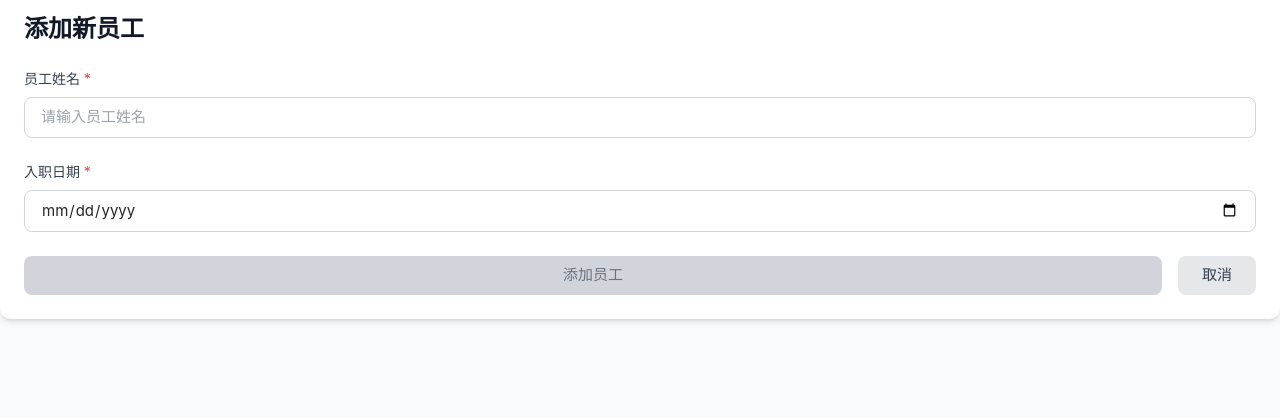
Test case: EmployeeForm.vue › 表单验证失败 › storage.save 失败时应该显示错误
The image size is (1280, 418).
Type "张三" into the field with id "name" at (640, 117), box x1=24 y1=97 x2=1256 y2=138
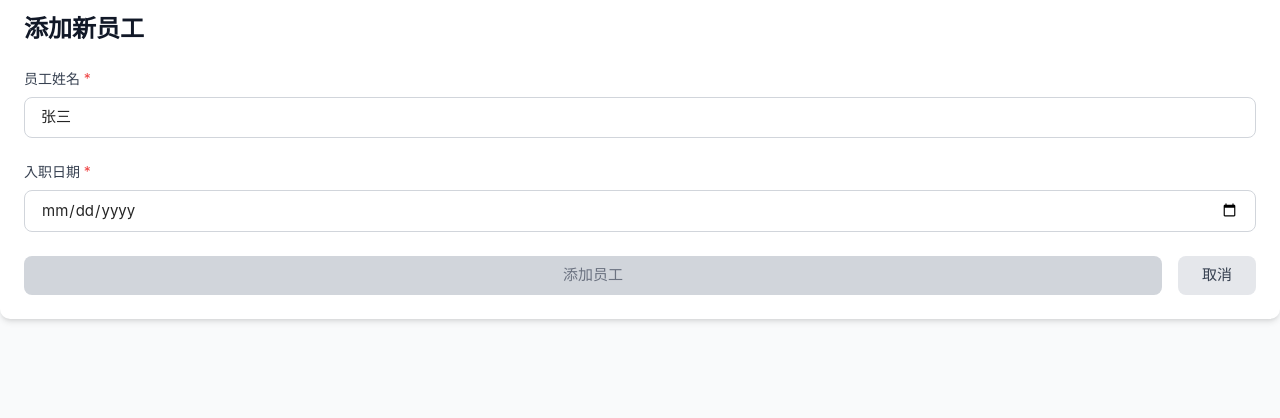
Type "2023-05-15" into the date field with id "hireDate" at (640, 211), box x1=24 y1=190 x2=1256 y2=232
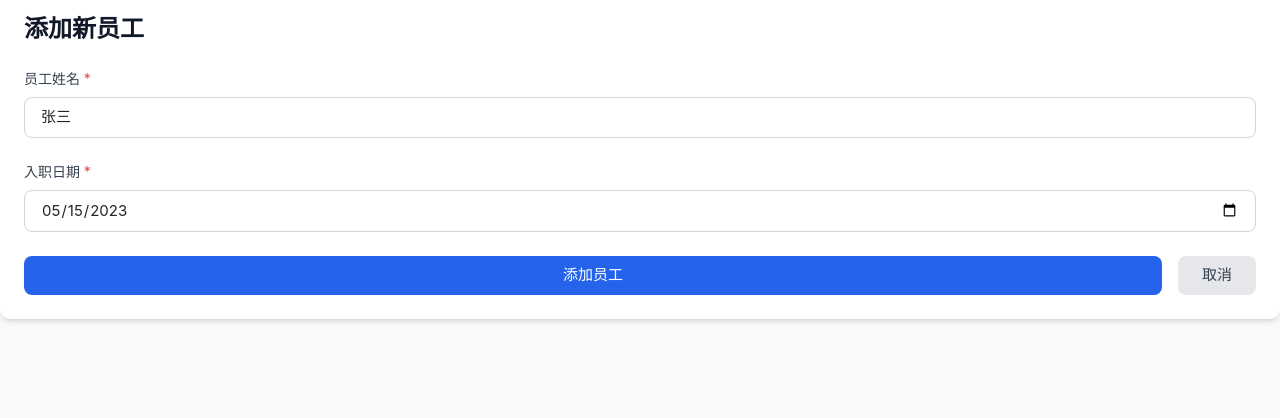
Submit the form, box x1=24 y1=69 x2=1256 y2=294
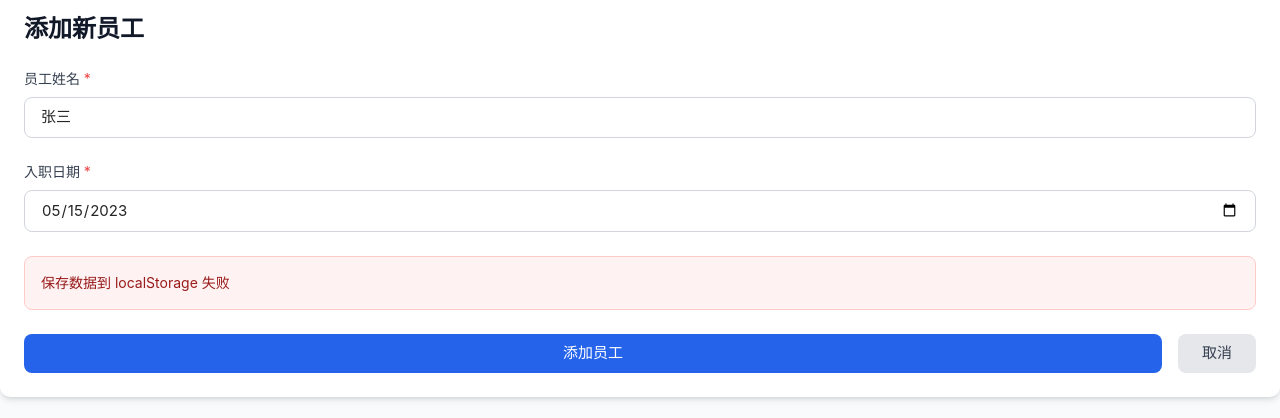
Result: the text "保存数据到 localStorage 失败" is shown at x1=41 y1=274 x2=230 y2=291
